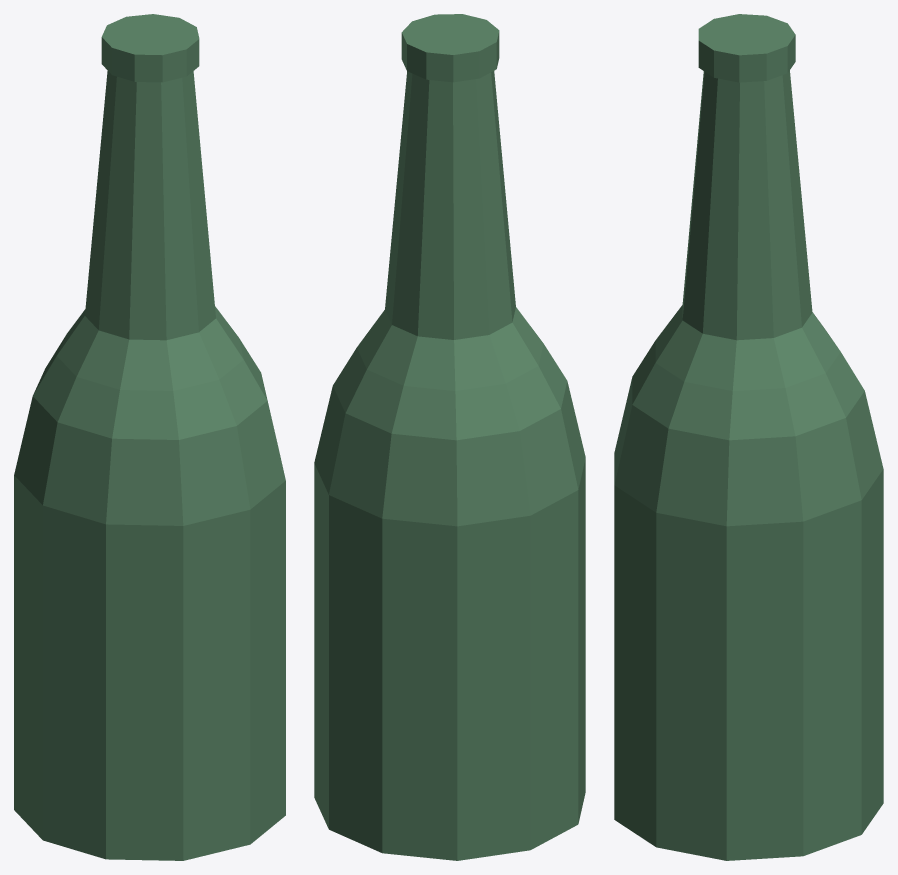
Rendered from tavern-bottle-green.glb.
3 views of the same model, side by side, from view 1: azimuth 30°, elevation 25°; view 2: azimuth 150°, elevation 25°; view 3: azimuth 270°, elevation 25° (orthographic).
Parts seen in each view (by area): view 1: Object_2; view 2: Object_2; view 3: Object_2.
Part boxes in pixels (x1,y1,x2,y2): Object_2: (14, 14, 285, 860); Object_2: (314, 14, 585, 860); Object_2: (614, 14, 883, 860).
Size of the model in its own units: 1.98 by 6.18 by 1.96.
